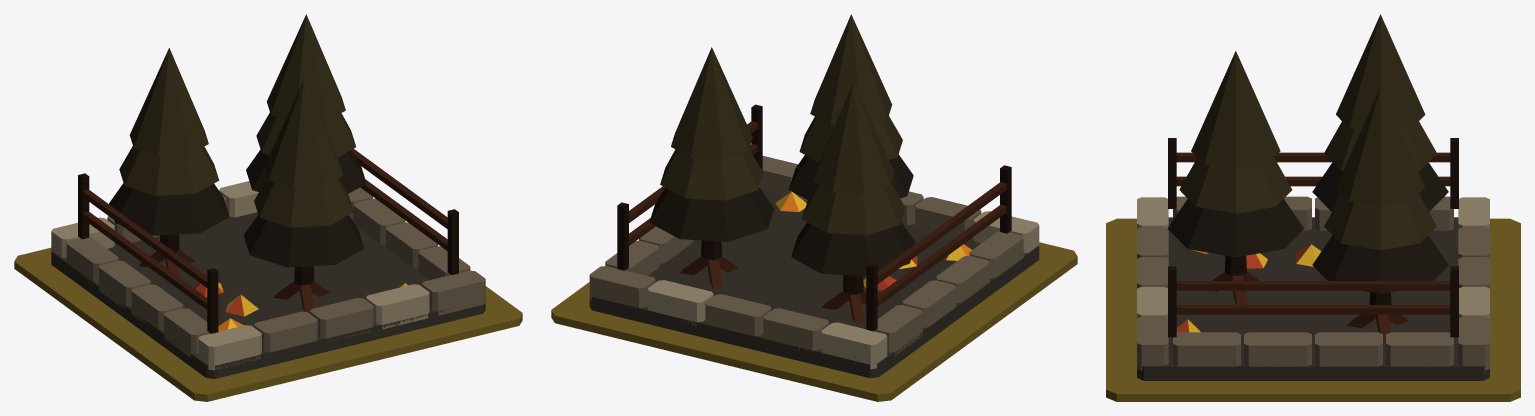
File: whisper-grove_t2.glb
The picture shows the model from 3 angles, left to right: view 1: azimuth 30°, elevation 25°; view 2: azimuth 150°, elevation 25°; view 3: azimuth 270°, elevation 25°; orthographic projection. The views are drawn at different scales.
Parts seen in each view (by area): view 1: MMR | whisper-grove | T02 Architecture.001, MMR | whisper-grove | Tier 02 Ground.001, MMR | whisper-grove | T02 Autumn Dressing.001; view 2: MMR | whisper-grove | T02 Architecture.001, MMR | whisper-grove | Tier 02 Ground.001, MMR | whisper-grove | T02 Autumn Dressing.001; view 3: MMR | whisper-grove | T02 Architecture.001, MMR | whisper-grove | Tier 02 Ground.001, MMR | whisper-grove | T02 Autumn Dressing.001.
Part boxes in pixels (x1=…): MMR | whisper-grove | T02 Architecture.001: x1=51, y1=14, x2=485, y2=378; MMR | whisper-grove | Tier 02 Ground.001: x1=14, y1=247, x2=522, y2=401; MMR | whisper-grove | T02 Autumn Dressing.001: x1=194, y1=282, x2=408, y2=331; MMR | whisper-grove | T02 Architecture.001: x1=589, y1=14, x2=1039, y2=378; MMR | whisper-grove | Tier 02 Ground.001: x1=551, y1=242, x2=1077, y2=401; MMR | whisper-grove | T02 Autumn Dressing.001: x1=775, y1=191, x2=971, y2=290; MMR | whisper-grove | T02 Architecture.001: x1=1137, y1=14, x2=1489, y2=380; MMR | whisper-grove | Tier 02 Ground.001: x1=1106, y1=218, x2=1520, y2=401; MMR | whisper-grove | T02 Autumn Dressing.001: x1=1176, y1=244, x2=1321, y2=332.
Size of the model in its own units: 2.35 by 1.65 by 2.35.
Materials: 1 (1 with a texture image).
